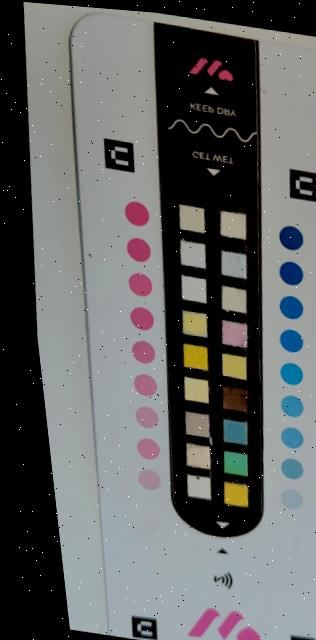black_strip: (145, 12, 272, 549)
circle: (274, 257, 308, 290), (274, 222, 307, 254), (274, 454, 308, 485), (129, 401, 161, 433), (129, 370, 161, 402), (125, 303, 157, 335), (122, 269, 155, 300), (132, 433, 163, 465), (131, 464, 164, 494), (274, 293, 307, 323), (121, 234, 155, 263), (120, 197, 151, 228), (274, 358, 306, 388), (275, 326, 307, 356), (128, 337, 159, 367), (275, 484, 305, 515), (276, 423, 306, 454), (276, 391, 306, 421)
markers: (210, 203, 309, 254), (212, 280, 309, 327), (210, 245, 308, 290), (212, 314, 309, 358), (118, 191, 209, 237), (122, 262, 211, 309), (121, 227, 211, 273), (214, 379, 308, 423), (216, 413, 311, 456), (213, 347, 308, 390), (127, 397, 215, 443), (129, 461, 217, 506), (124, 332, 213, 375), (216, 446, 307, 487), (124, 299, 212, 341), (126, 365, 216, 406), (220, 476, 307, 518), (128, 432, 215, 472)
square: (173, 271, 212, 308), (212, 205, 251, 242), (215, 314, 252, 351), (174, 305, 212, 341), (172, 236, 210, 271), (214, 348, 252, 383), (214, 245, 250, 281), (177, 371, 213, 406), (173, 199, 208, 235), (215, 280, 250, 315), (215, 381, 251, 415), (216, 414, 253, 446), (179, 406, 213, 440), (218, 477, 252, 511), (176, 339, 211, 372), (181, 469, 215, 502), (180, 439, 214, 472), (218, 447, 252, 477)
triangle: (173, 538, 279, 640)
